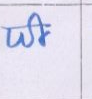i_matra: (32, 13, 48, 45)
